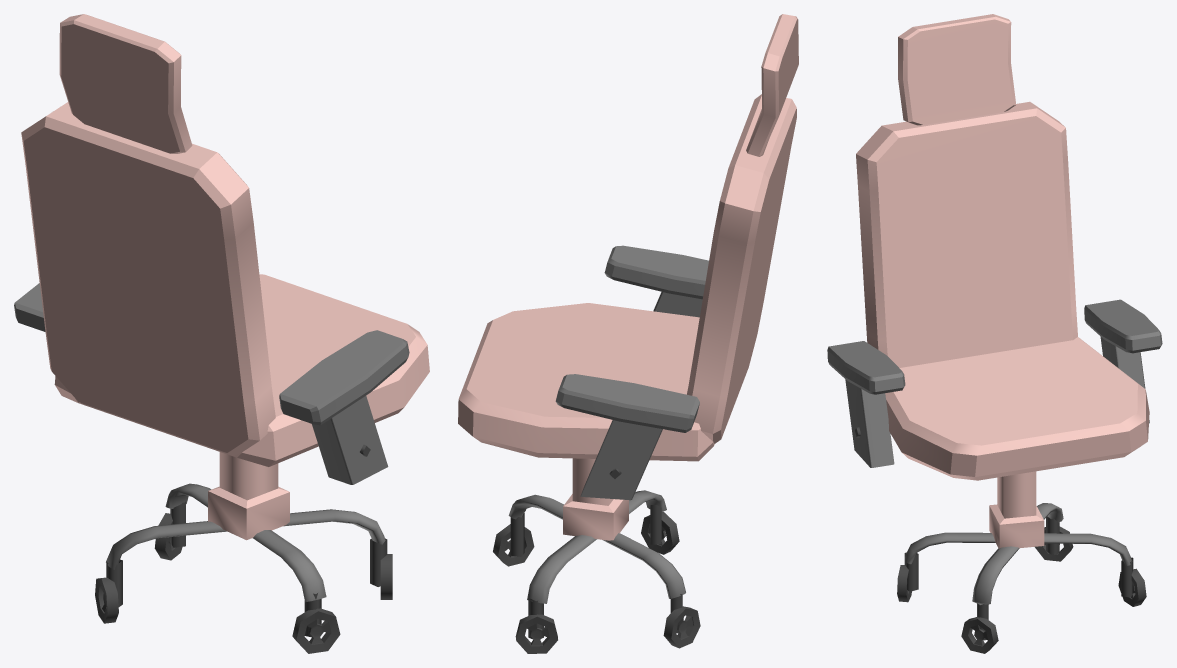
Rendered from SM_Ofice_Chair.fbx.
3 views of the same model, side by side, from view 1: azimuth 30°, elevation 25°; view 2: azimuth 150°, elevation 25°; view 3: azimuth 270°, elevation 25° (orthographic). The views are drawn at different scales.
Visible parts, largest first — view 1: SM_Ofice_Chair; view 2: SM_Ofice_Chair; view 3: SM_Ofice_Chair.
Boxes of the visible parts, box(x1,y1,x2,y2) form: SM_Ofice_Chair: box(14, 14, 429, 653); SM_Ofice_Chair: box(458, 14, 798, 653); SM_Ofice_Chair: box(827, 14, 1162, 653).
Size of the model in its own units: 88.64 by 156 by 91.24.
